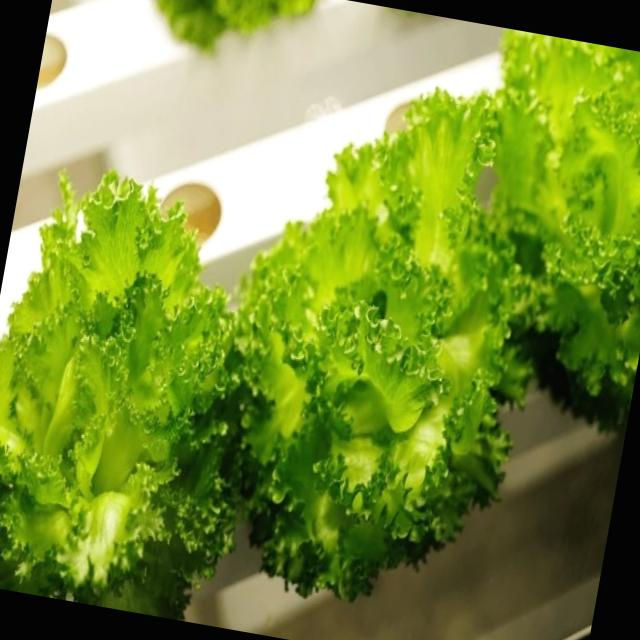inmadura: (235, 92, 528, 597), (0, 171, 234, 618)
